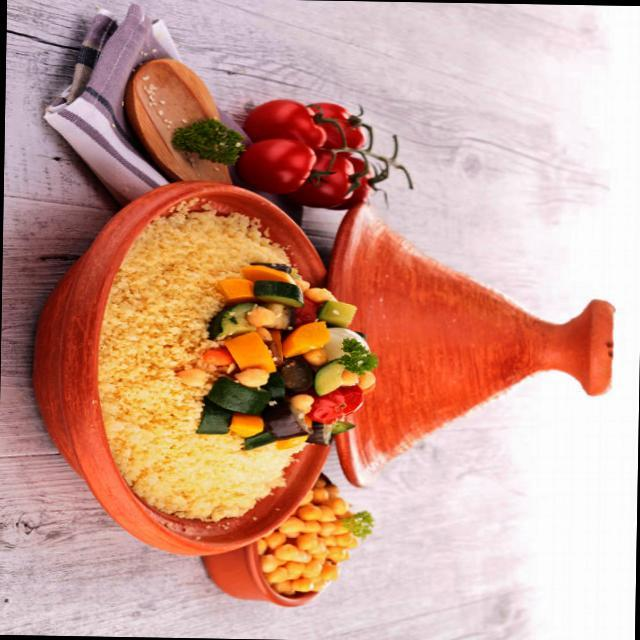Couscous: (70, 189, 380, 554)
